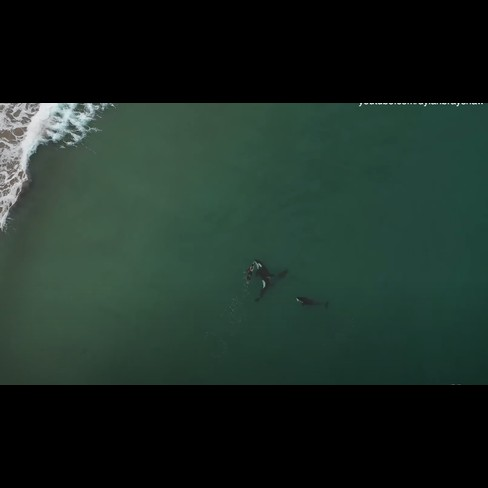orca: (246, 251, 277, 303), (290, 292, 333, 310)
